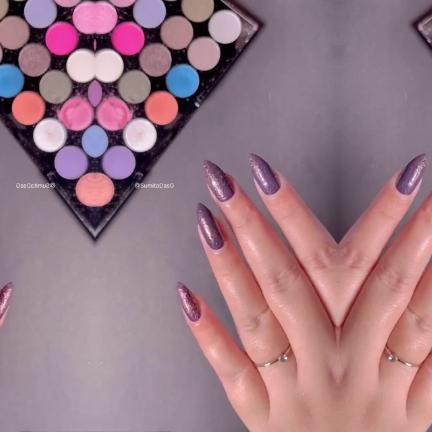Nail: (202, 159, 234, 202), (248, 153, 280, 195), (195, 202, 223, 250), (394, 153, 426, 195), (176, 282, 200, 322), (0, 282, 12, 319)
